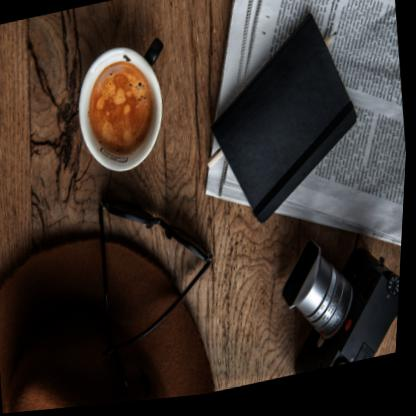Spectacles: (97, 175, 221, 294)
